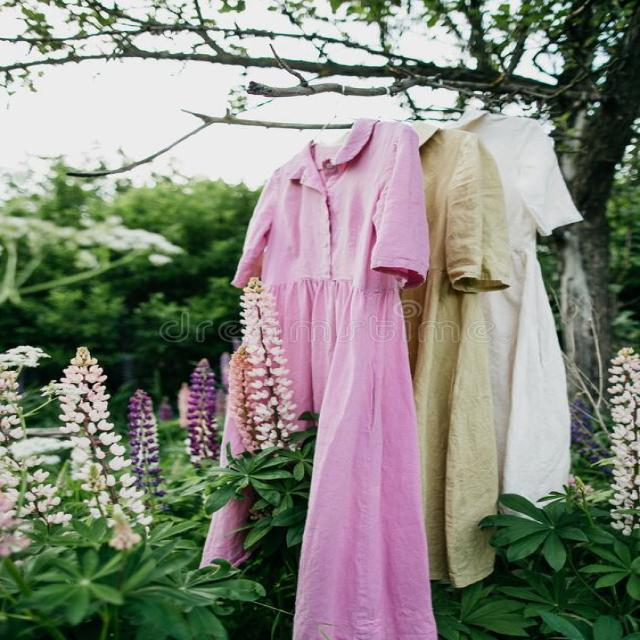clothes: (242, 120, 610, 628)
